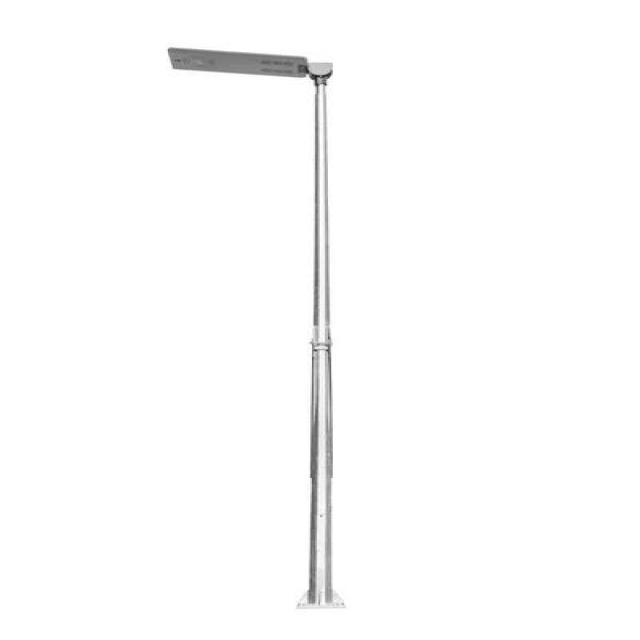Pole: (170, 47, 333, 608)
